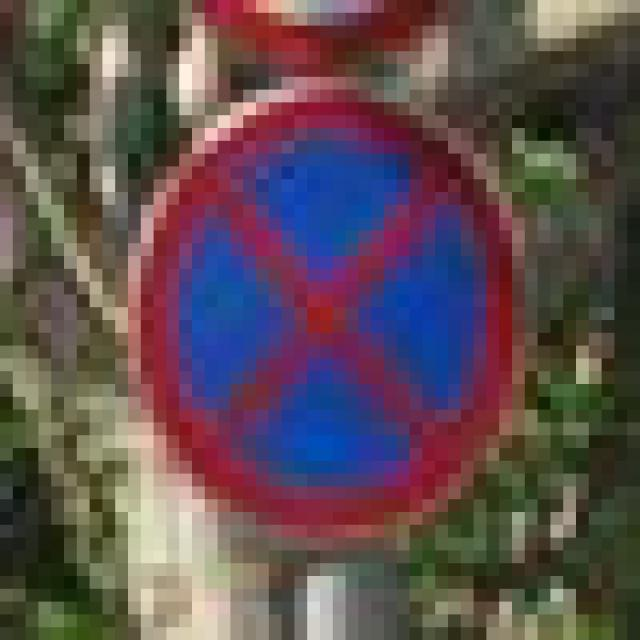NO_STOPPING_OR_STANDING: (115, 77, 499, 525)
